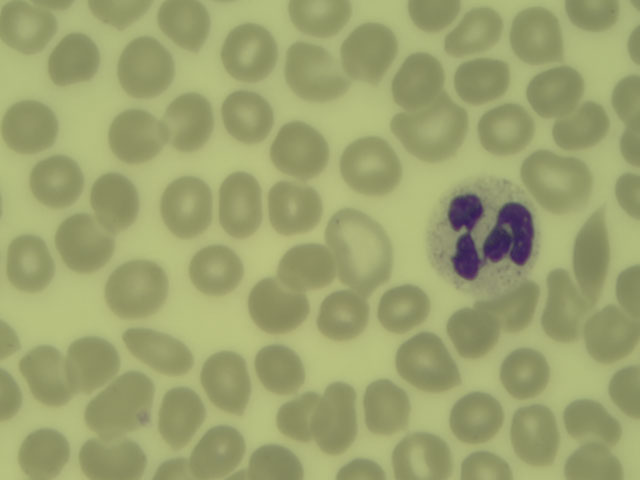RBC: (332, 210, 392, 289), (397, 106, 471, 158), (86, 375, 151, 433), (316, 299, 376, 359), (288, 40, 345, 103), (105, 259, 167, 316), (339, 137, 403, 192), (394, 336, 459, 390), (524, 152, 588, 205), (118, 327, 196, 370), (1, 98, 64, 151), (103, 110, 166, 163), (394, 432, 462, 480), (221, 28, 280, 80), (163, 179, 211, 240), (118, 45, 176, 94), (588, 308, 640, 361), (57, 215, 109, 268), (5, 234, 55, 289), (546, 264, 582, 340), (272, 127, 331, 173), (515, 7, 564, 62), (267, 185, 322, 234), (159, 386, 204, 445), (192, 243, 245, 293), (157, 1, 211, 50), (94, 174, 143, 228), (513, 409, 557, 469), (252, 288, 307, 335), (349, 21, 394, 78), (365, 377, 408, 436), (206, 353, 249, 412), (29, 157, 85, 202), (77, 439, 143, 477), (222, 172, 259, 238), (255, 348, 308, 392), (581, 216, 610, 296), (483, 106, 532, 152), (1, 7, 55, 48), (321, 383, 354, 450), (530, 67, 578, 113), (220, 94, 269, 139), (22, 428, 67, 476), (455, 391, 497, 442), (24, 348, 66, 399), (456, 59, 512, 97), (395, 51, 441, 97), (563, 397, 618, 435), (170, 99, 211, 148), (504, 347, 546, 394), (55, 37, 97, 83), (286, 1, 355, 29), (281, 246, 327, 288), (380, 288, 427, 329), (72, 341, 117, 382), (445, 311, 494, 348), (481, 298, 539, 329), (200, 429, 243, 470), (571, 448, 626, 480), (280, 389, 316, 436), (251, 448, 305, 478), (451, 18, 503, 49), (610, 364, 640, 416), (559, 110, 606, 143), (572, 1, 621, 32), (91, 1, 151, 25), (461, 451, 509, 480), (406, 2, 458, 28), (621, 265, 640, 324), (1, 362, 17, 427), (336, 459, 384, 480), (612, 78, 640, 111), (616, 176, 640, 212), (1, 318, 22, 356), (622, 126, 640, 160), (158, 462, 190, 479)
WBC: (430, 180, 540, 290)
